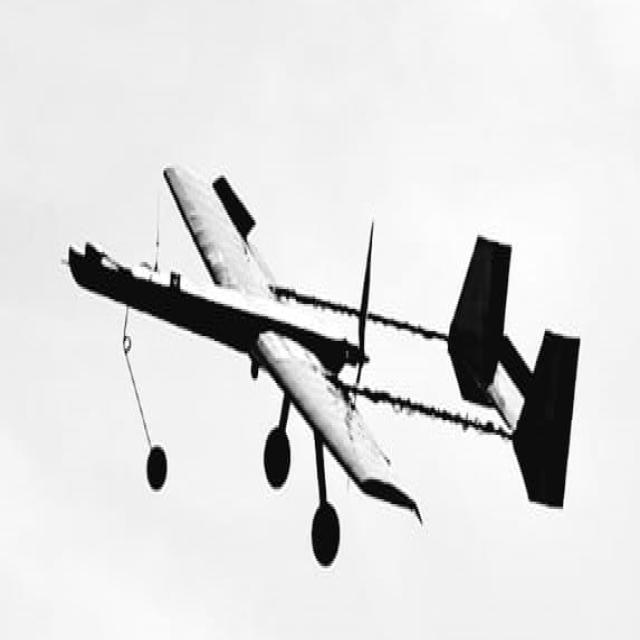iha: (0, 168, 579, 563)
